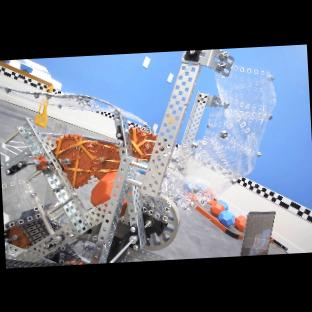Robot: (0, 49, 275, 268)
